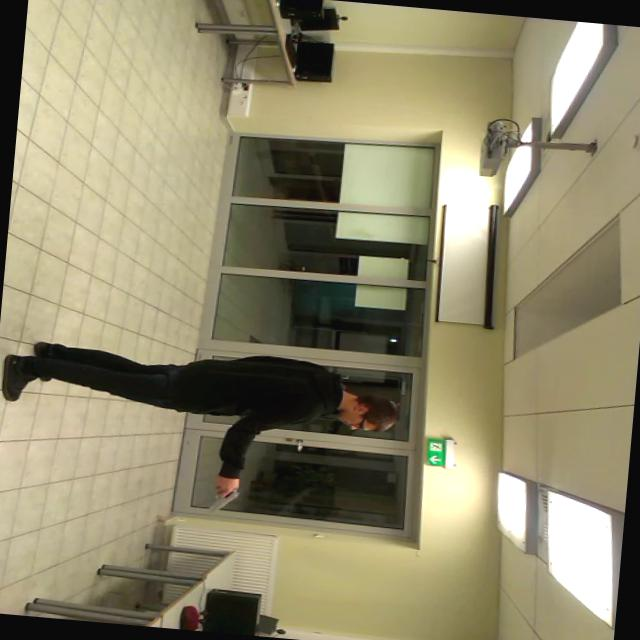handgun: (197, 476, 250, 520)
